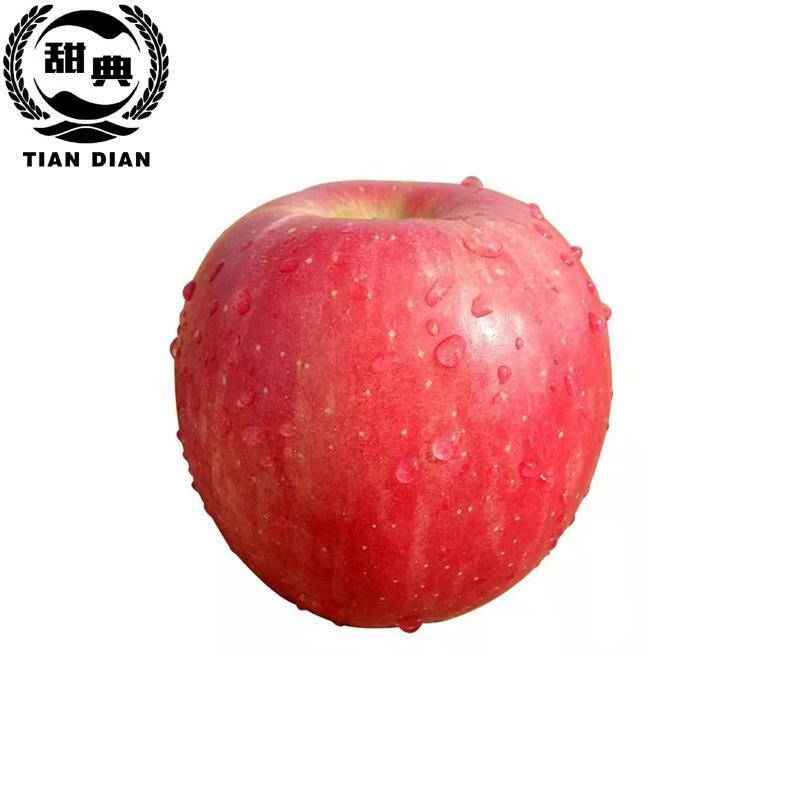apple: (171, 178, 615, 633)
